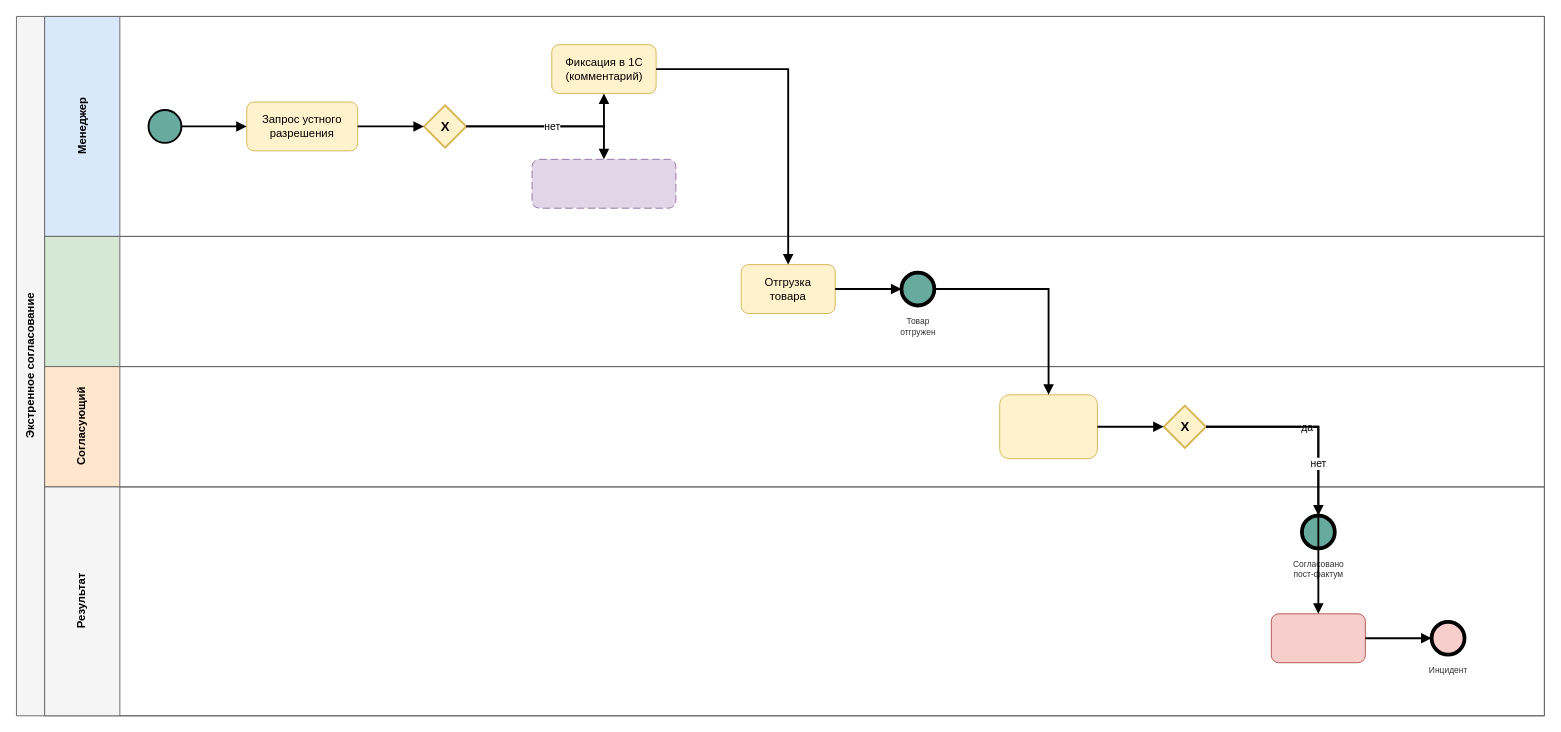
Image size: 1561x732. Some labels were removed from this diagram. Each missing label, with the box of its shape:
Регистрация инцидента: (1270, 613, 1365, 663)
Склад: (44, 235, 1544, 367)
Согласование пост-фактум (SLA 24ч): (999, 394, 1097, 459)
Стандартный процесс (см. BPMN 2): (531, 158, 676, 208)
